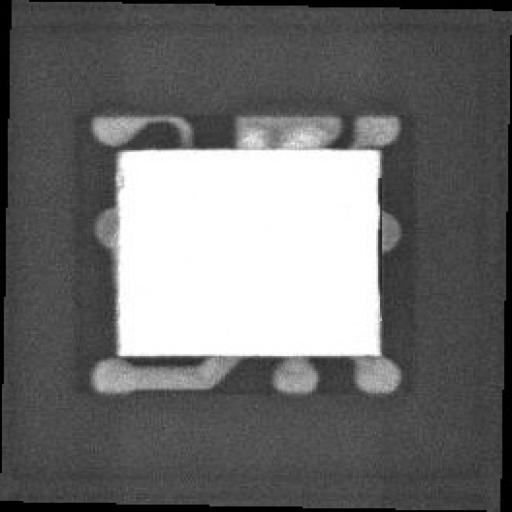DIE_BROKEN: (370, 173, 384, 278)
